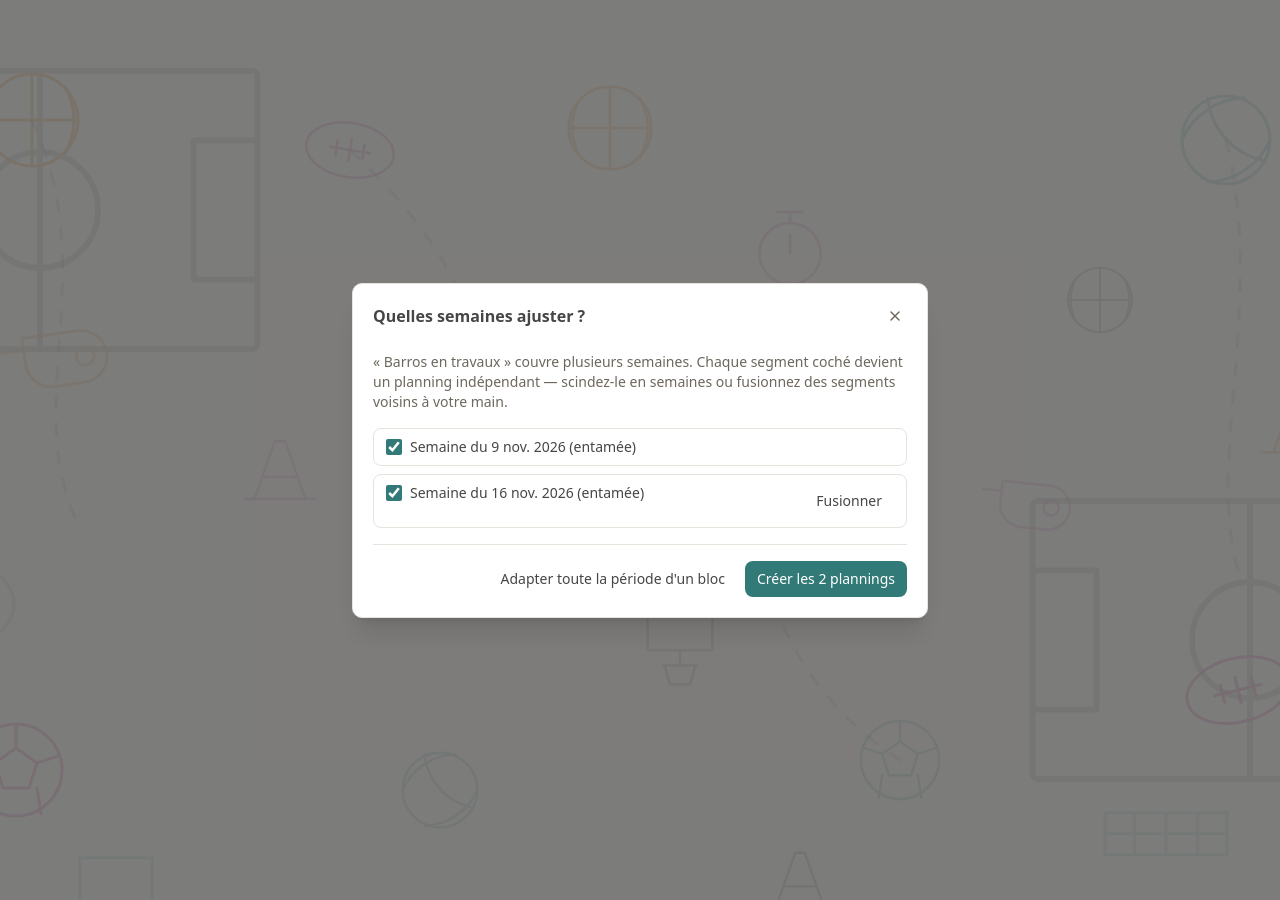
WeekPickerDialog (P2-5 E1) › disarms creation when nothing is picked
This screenshot has width=1280, height=900.
Click the checkbox labelled "Semaine du 9 nov. 2026 (entamée)": (394, 446) [386,438,402,454]
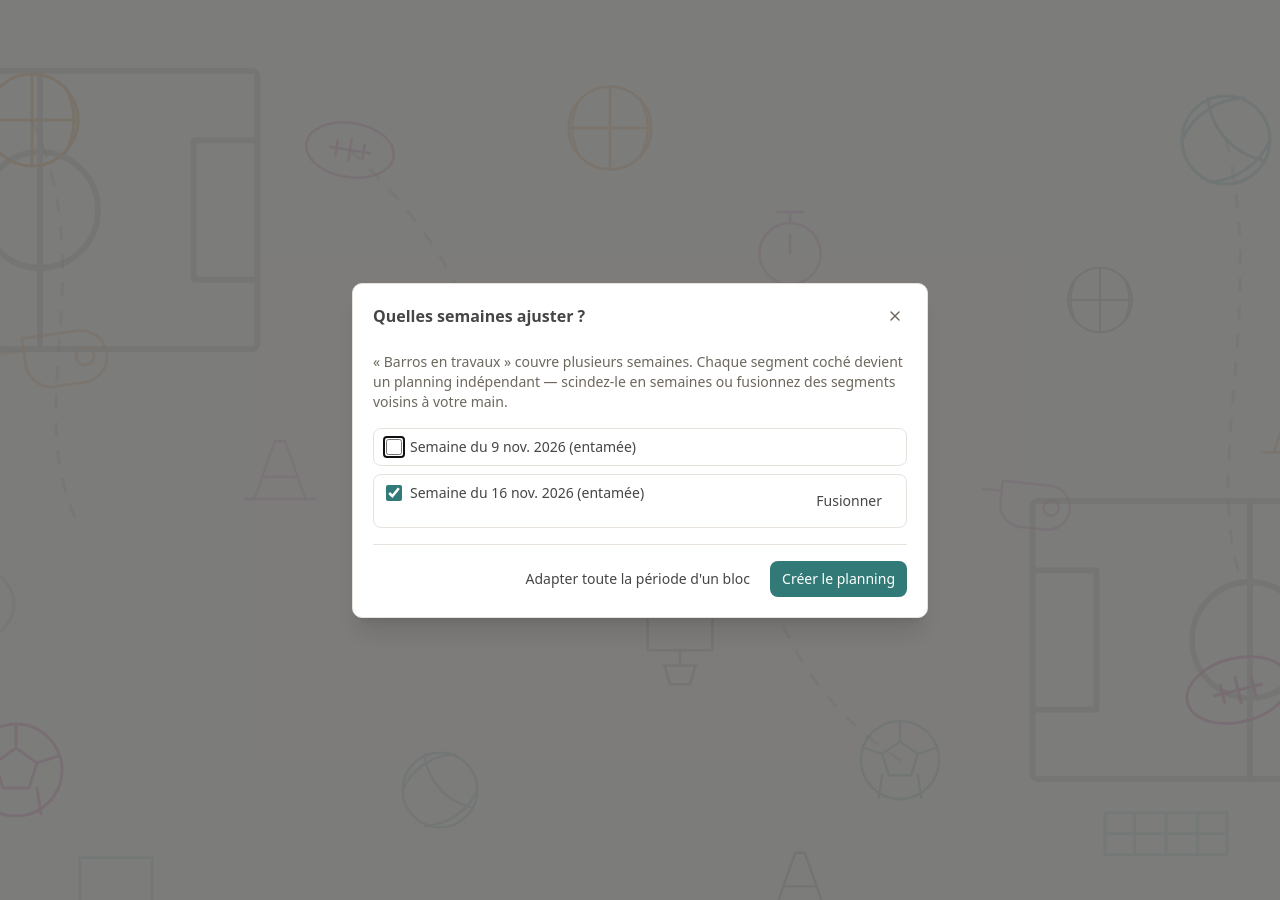
Click the checkbox labelled "Semaine du 16 nov. 2026 (entamée)": (394, 492) [386,484,402,500]
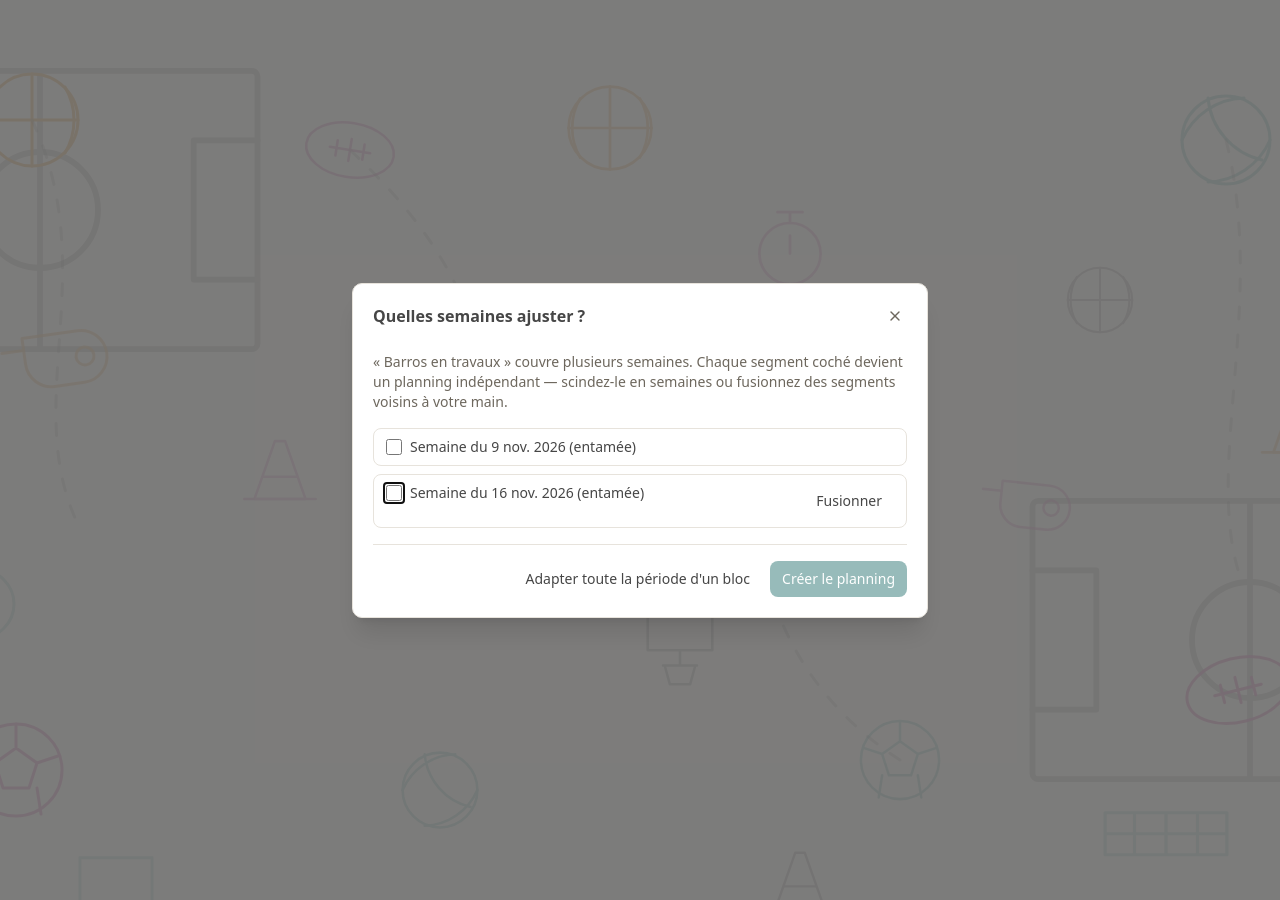
Check: the button "Créer le planning" is disabled, box [770,560,907,596]
